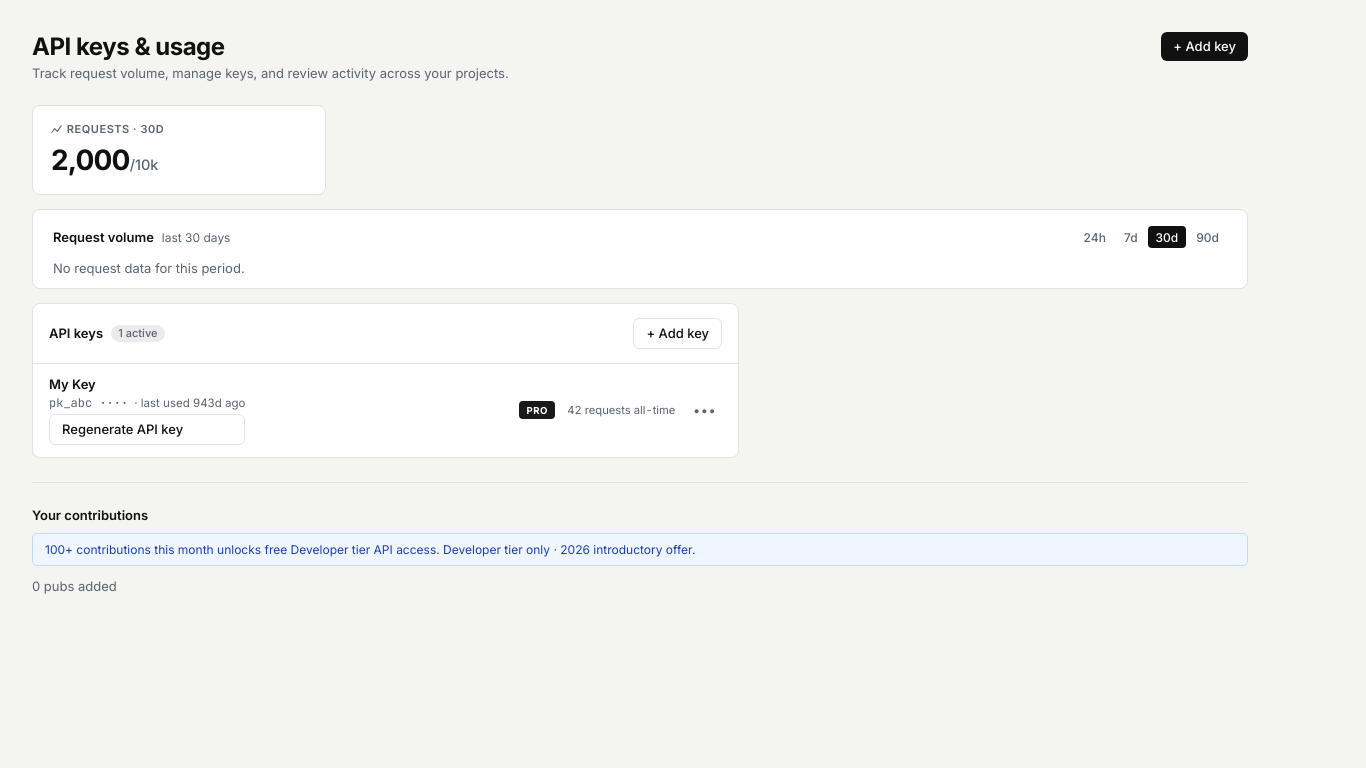
Test: Dashboard › forgot API key › shows error when forgot API key request fails
Expected: the text "My Key" is shown, [49,376,96,392]
What coordinates should you click on to do the following:
click the button named "More options for My Key"
I would click on:
 (705, 411)
Its box is [687,401,722,422].
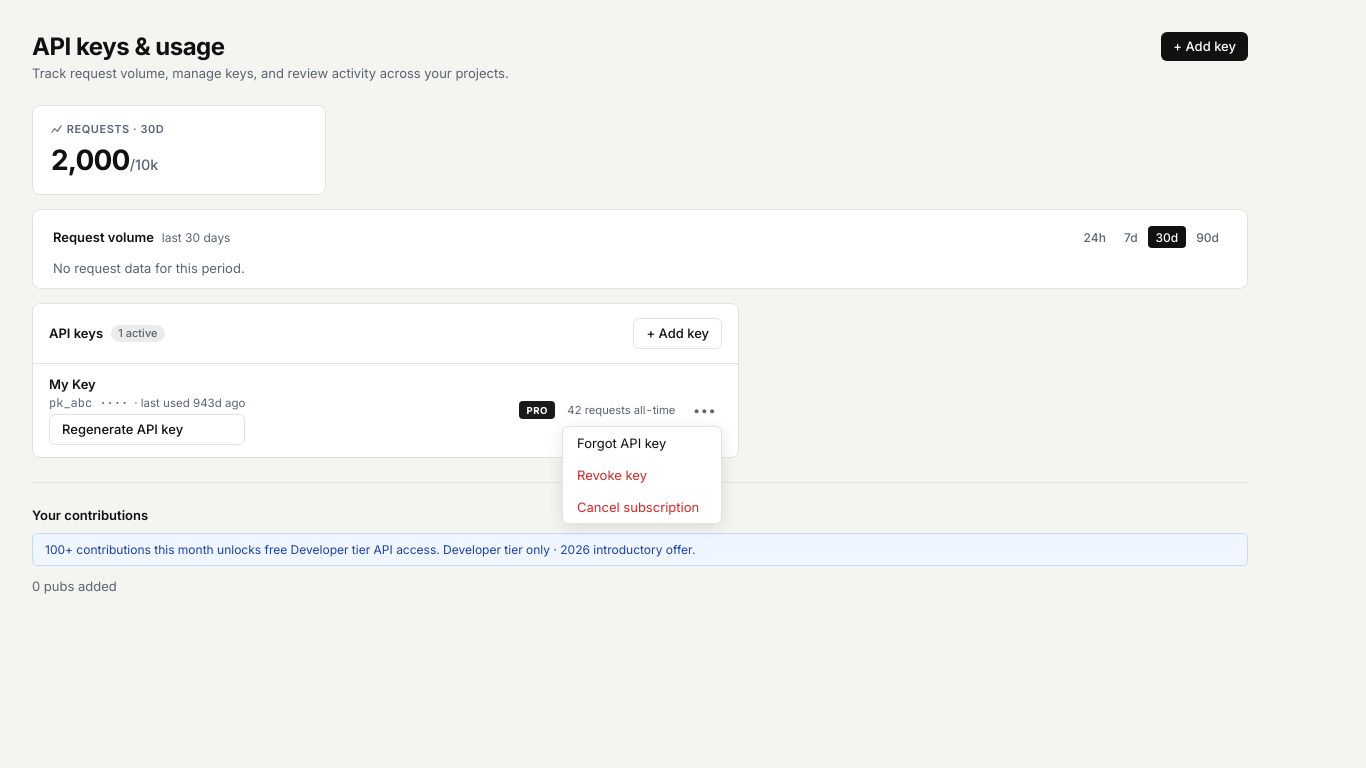
What coordinates should you click on to do the following:
click the button "Forgot API key"
I would click on:
 (642, 442)
Its box is [563,426,721,458].
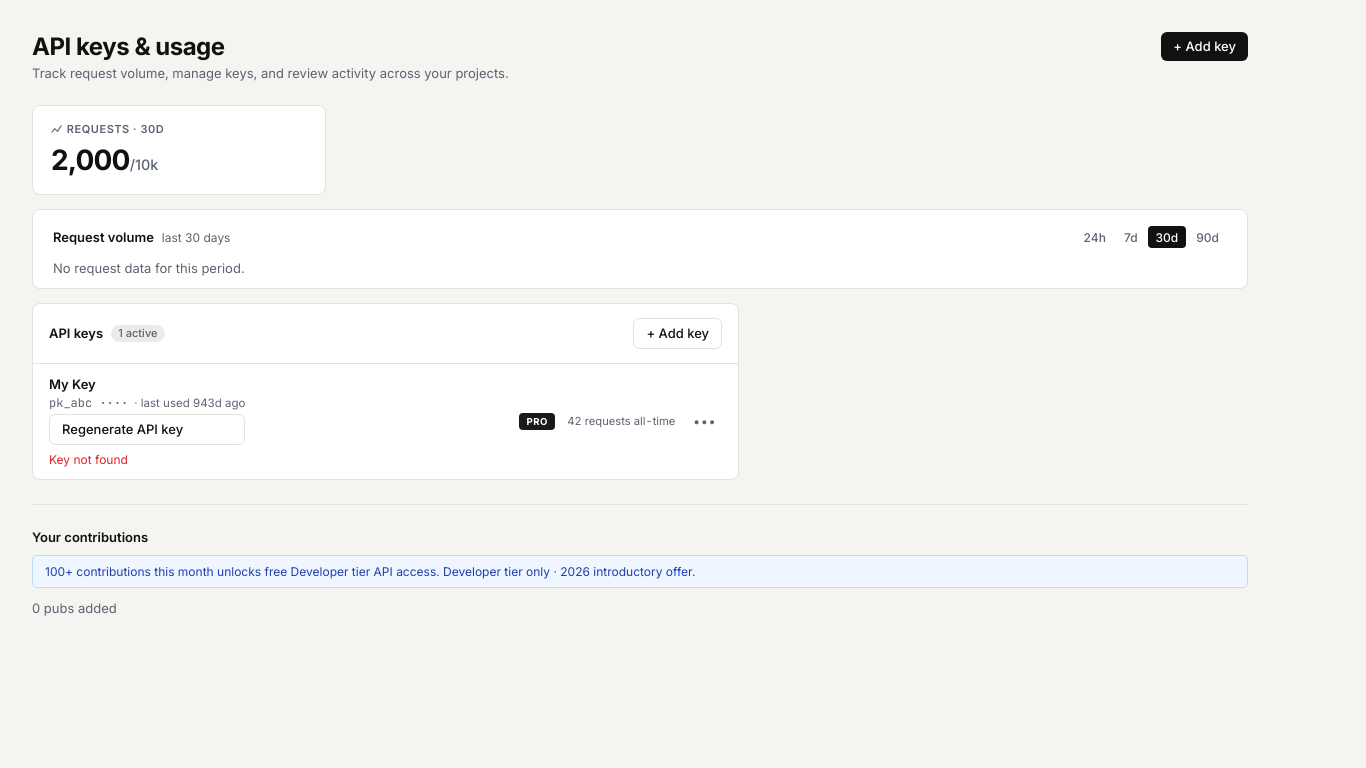
Result: the text "Key not found" is shown at [49,452,128,467]
